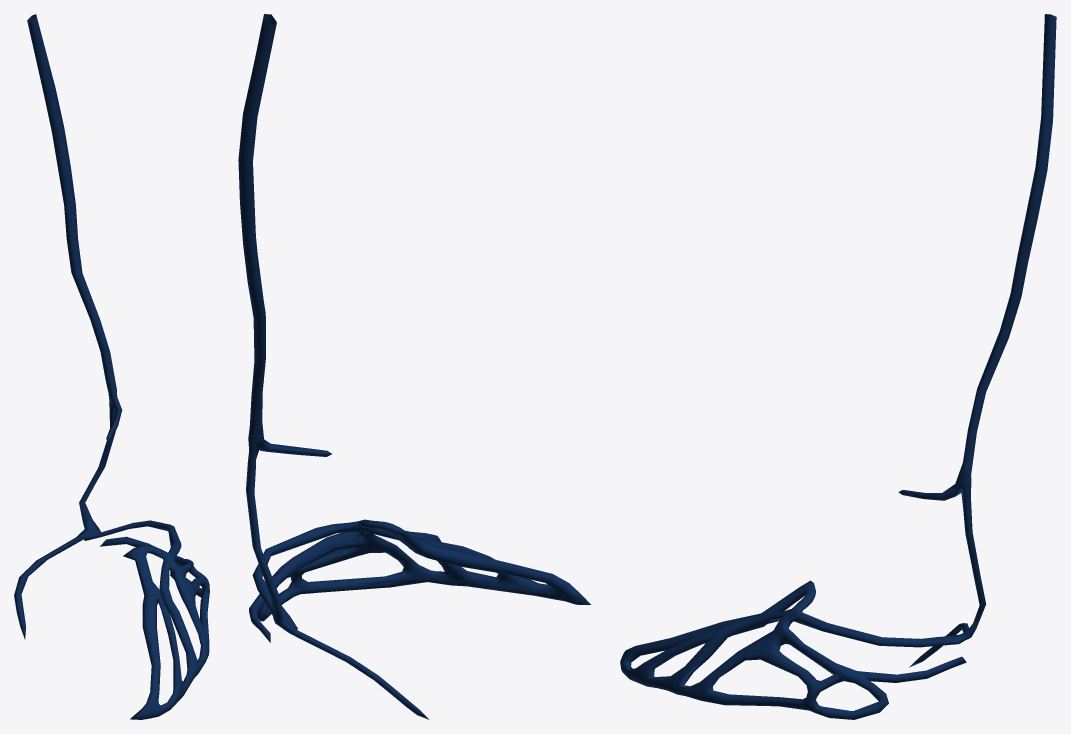
The model's file is RB vena digitales medialis.fbx.
3 renders of one model, left to right at view 1: azimuth 30°, elevation 25°; view 2: azimuth 150°, elevation 25°; view 3: azimuth 270°, elevation 25°, orthographic. The views are drawn at different scales.
Visible parts, largest first — view 1: RB vena digitales medialis, RB vena digitales medialis low; view 2: RB vena digitales medialis, RB vena digitales medialis low; view 3: RB vena digitales medialis, RB vena digitales medialis low.
Part boxes in pixels (x1,y1,x2,y2): RB vena digitales medialis: [14, 14, 209, 719]; RB vena digitales medialis low: [18, 15, 208, 719]; RB vena digitales medialis: [238, 14, 590, 719]; RB vena digitales medialis low: [239, 15, 590, 695]; RB vena digitales medialis: [620, 14, 1056, 719]; RB vena digitales medialis low: [621, 14, 1054, 713].
Size of the model in its own units: 3.36 by 11.41 by 6.5.
